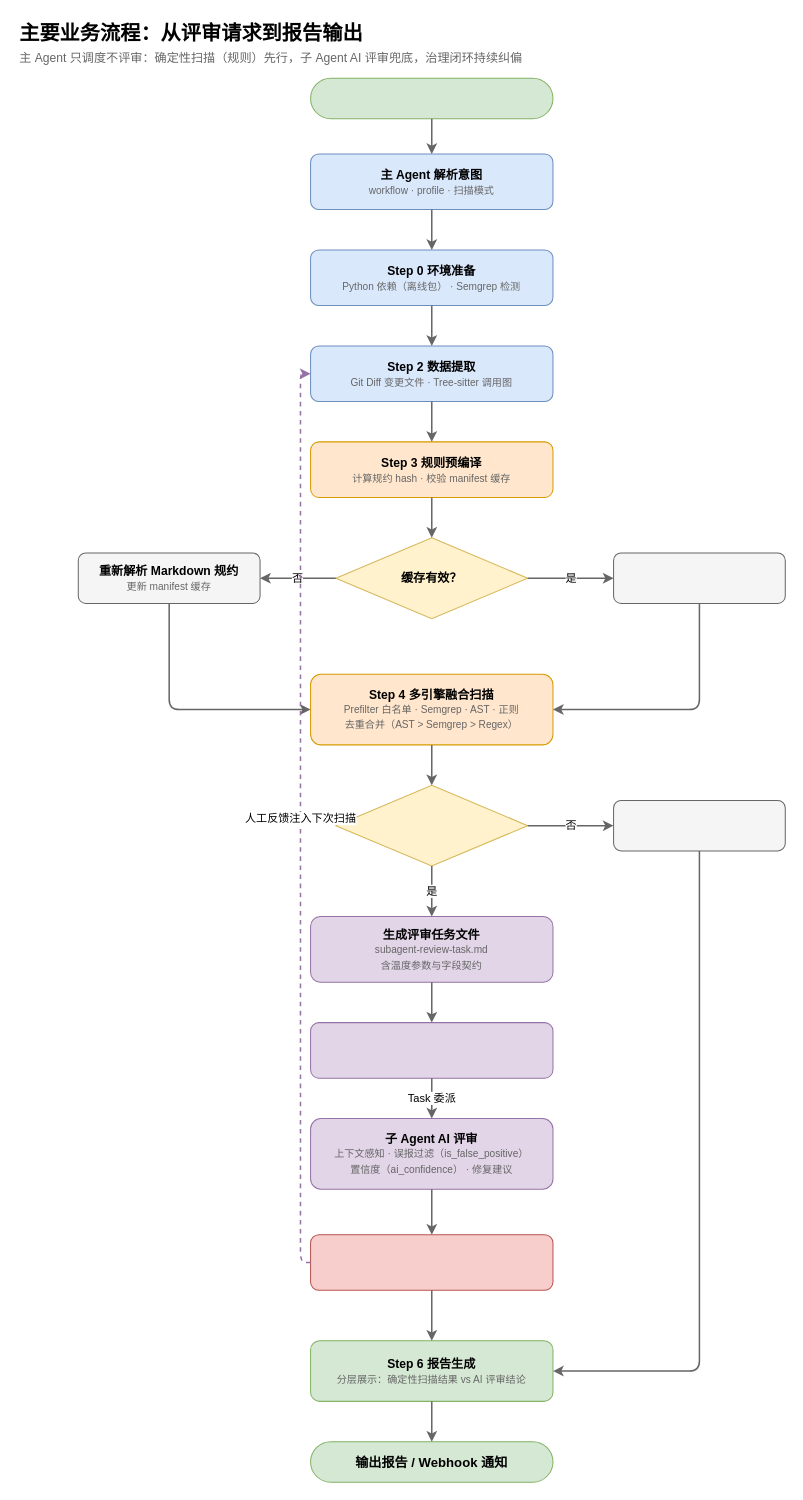
Some shapes in this 803 by 1500 pixel diagram are drawn without their labels. Here are the shapes that lost their labels. From the top down, the centre of each, then its label:
At [431,98]: "用户发起代码评审请求".
At [699,577]: "加载预编译缓存 17ms -> 8ms 提速 50%".
At [431,825]: "发现候选问题？".
At [699,825]: "输出无问题报告 直接进入报告生成".
At [431,1050]: "主 Agent 委派子 Agent Task 工具 · 单次委派 · 温度 0.1-0.2".
At [431,1262]: "治理记录 决策日志 · 漂移量化 · 人工反馈收集".
